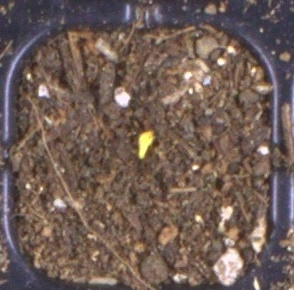chilli seed: (137, 130, 154, 160)
